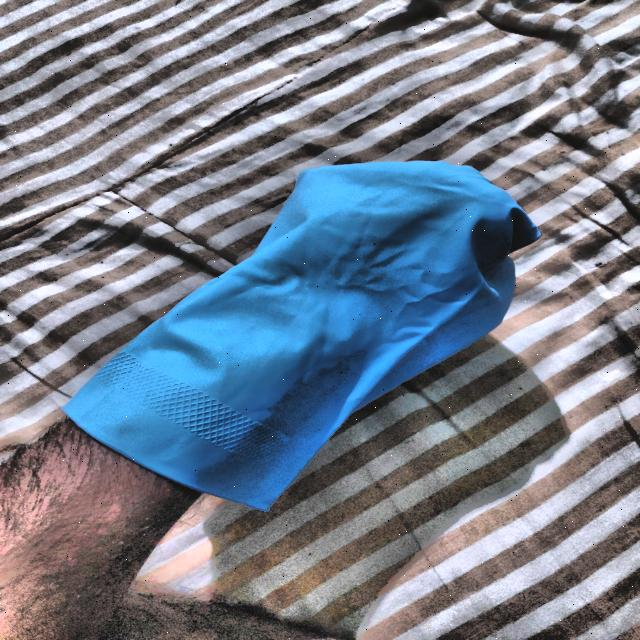gloved: (63, 143, 547, 514)
